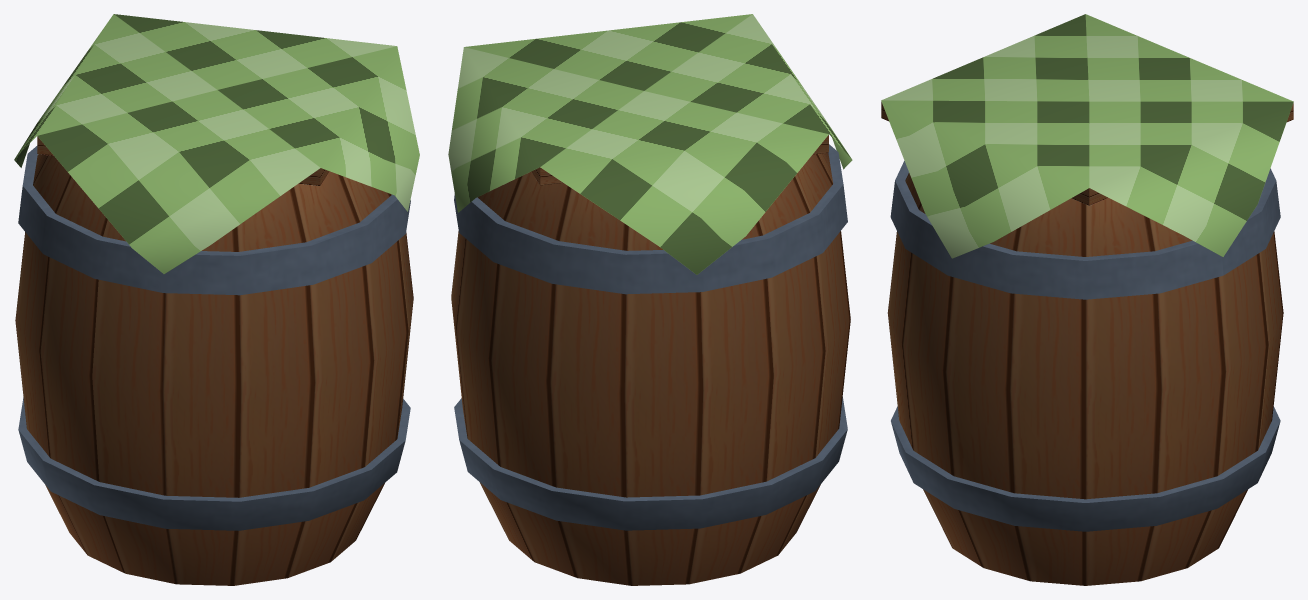
Rendered from Barrel_Small_Art.fbx.
3 renders of one model, left to right at view 1: azimuth 30°, elevation 25°; view 2: azimuth 150°, elevation 25°; view 3: azimuth 270°, elevation 25°, orthographic.
Parts seen in each view (by area): view 1: Oktoberfest_Barrel_Small; view 2: Oktoberfest_Barrel_Small; view 3: Oktoberfest_Barrel_Small.
Part boxes in pixels (bbox=[...]): Oktoberfest_Barrel_Small: bbox=[14, 14, 419, 585]; Oktoberfest_Barrel_Small: bbox=[448, 14, 852, 585]; Oktoberfest_Barrel_Small: bbox=[881, 14, 1293, 585].
Bounding box in the file's own units: 89.59 × 102 × 89.81.
